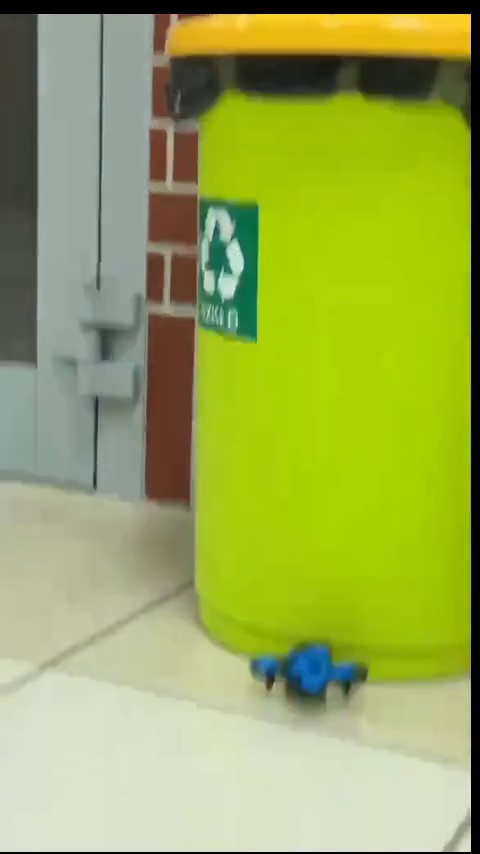drone: (247, 633, 365, 706)
